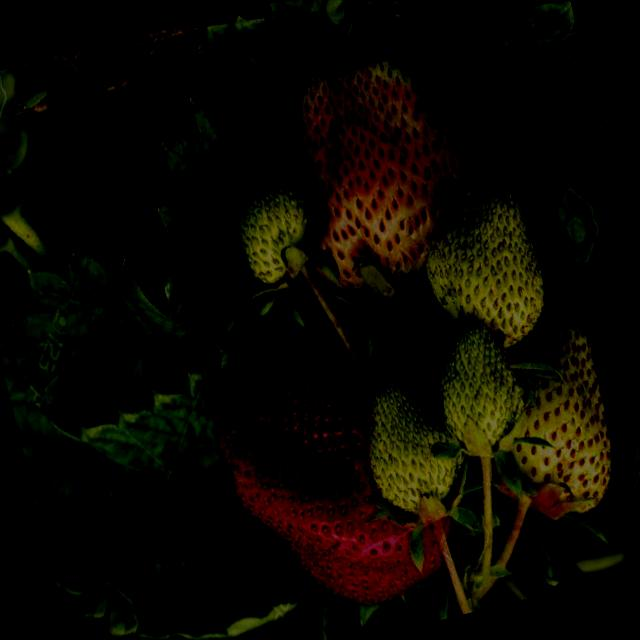Strawberry: (195, 302, 474, 632), (264, 37, 492, 310), (483, 317, 628, 525), (409, 178, 557, 366), (351, 369, 470, 524), (423, 314, 528, 460), (228, 174, 326, 296)
